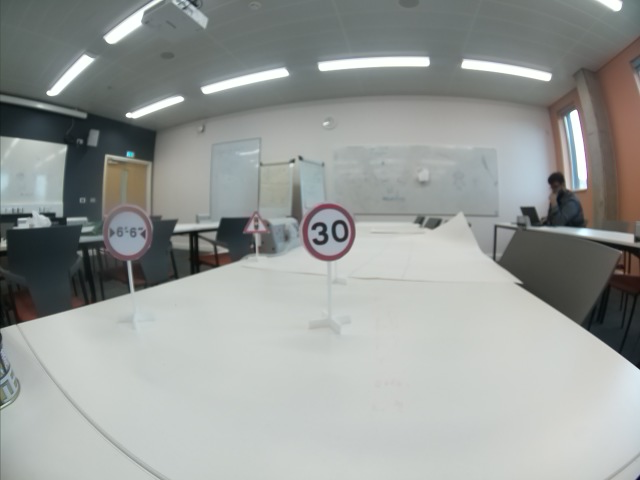30mph: (299, 202, 356, 263)
6ft6: (102, 204, 154, 263)
Traffic lights: (243, 212, 268, 232)
